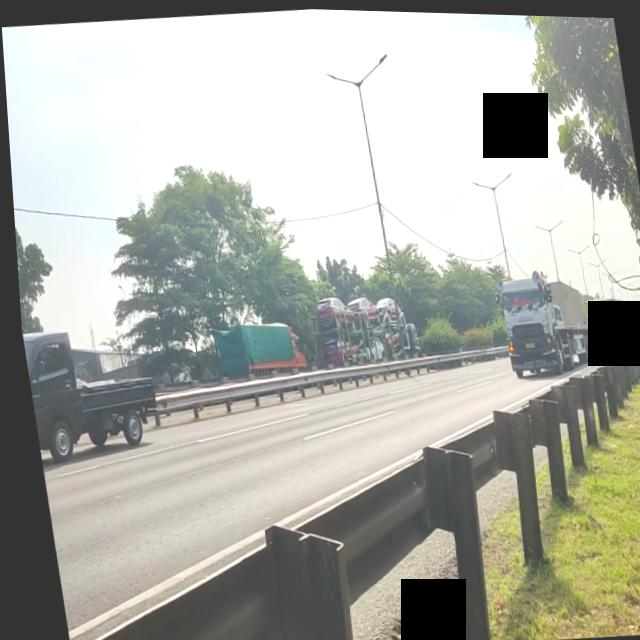Golongan I: (16, 311, 162, 477)
